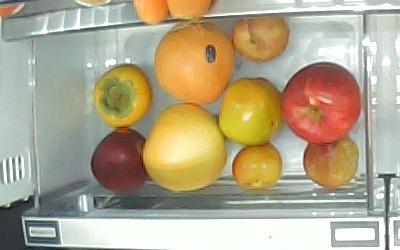apple: (281, 62, 362, 145), (91, 127, 150, 195)
grapefruit: (142, 102, 227, 193), (154, 22, 237, 105)
persimmon: (218, 77, 285, 147), (94, 65, 151, 128)
prune: (301, 136, 359, 188), (231, 16, 290, 63), (230, 142, 283, 192)
